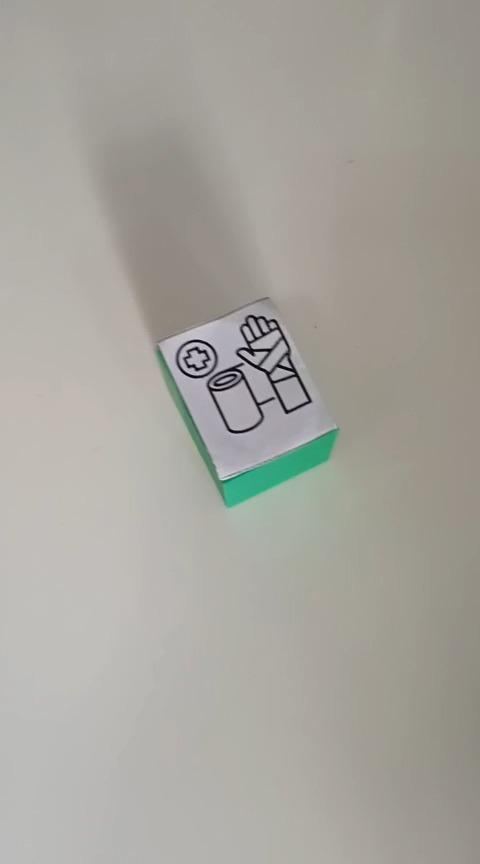Bandages: (154, 295, 339, 508)
